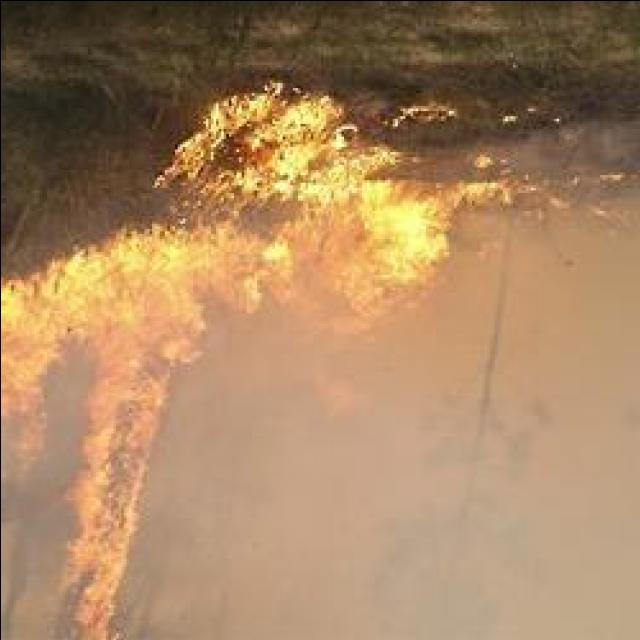fire: (62, 258, 192, 326), (262, 117, 362, 195), (358, 186, 442, 276), (0, 283, 51, 404)
